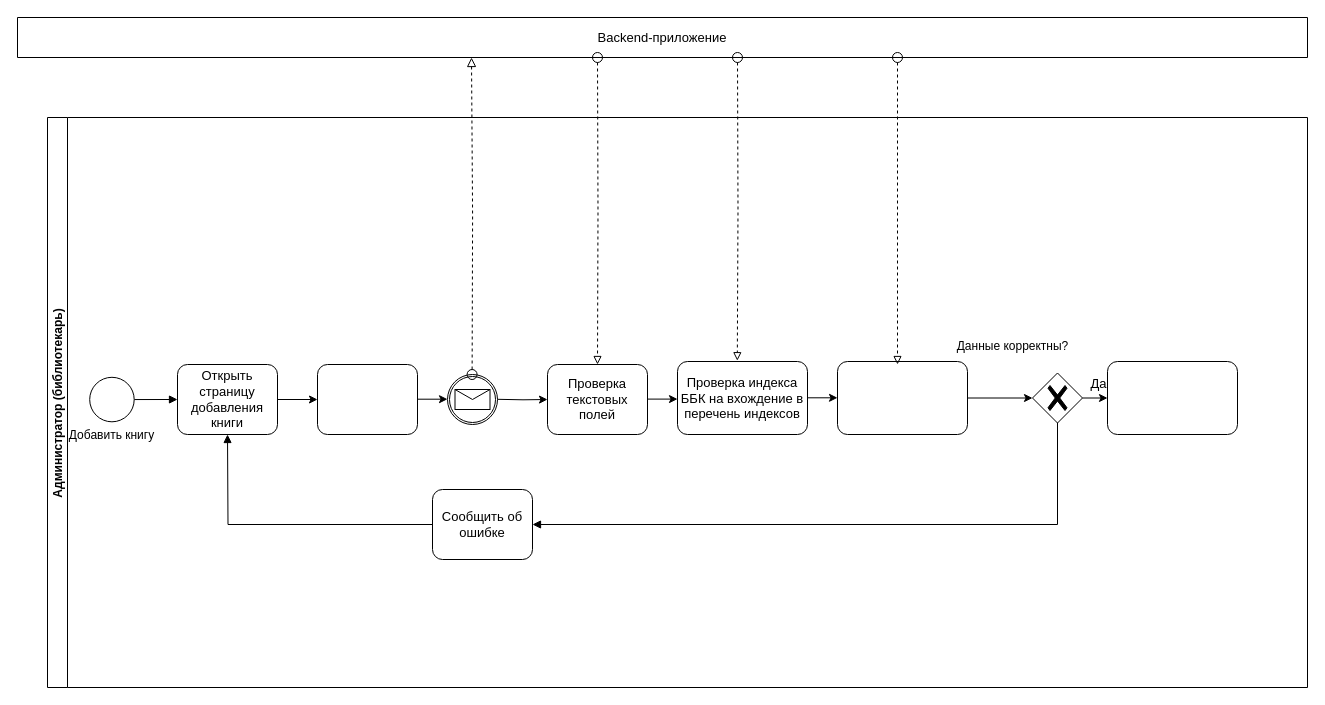
This 1325x705 diagram has some shape labels left out. The centre of each missing label's shape, as x and y in pixels:
Ввести данные в поля: [367,399]
Открыть страницу добавленной книги: [1172,397]
Отправить данные на проверку: [472,399]
Проверка существования автора: [902,397]
